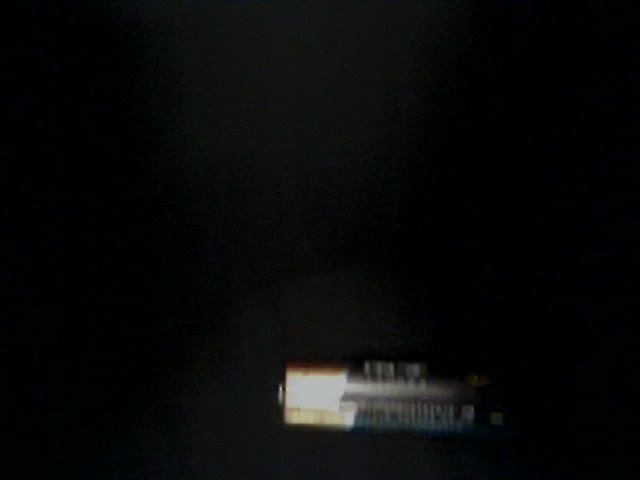QTLJ: (85, 354, 288, 480)
